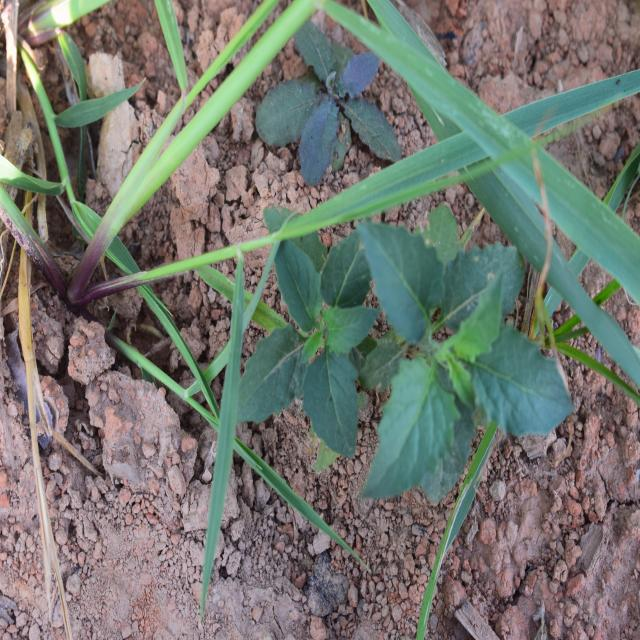Black_nightshade: (366, 193, 548, 493), (247, 240, 376, 492)
